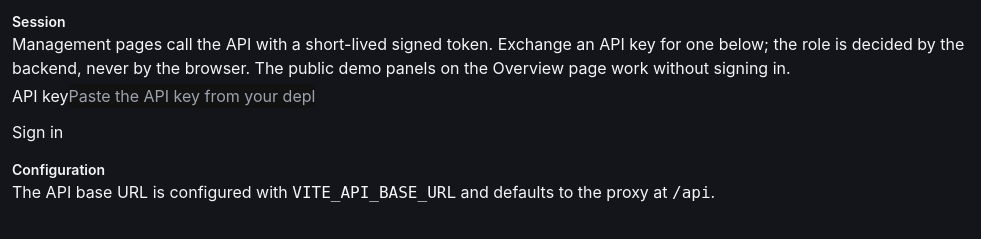
Test: SettingsPage › shows the backend error when the key is rejected
Type "wrong-key" into the password field labelled "API key" at [192, 96], box [68,84,316,108]
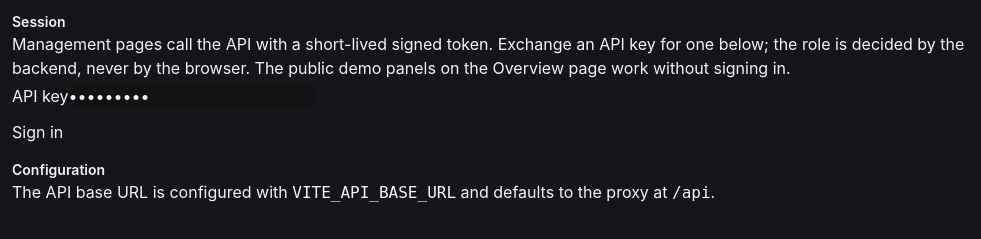
Click the button "Sign in" at [38, 132], box [12,120,63,144]
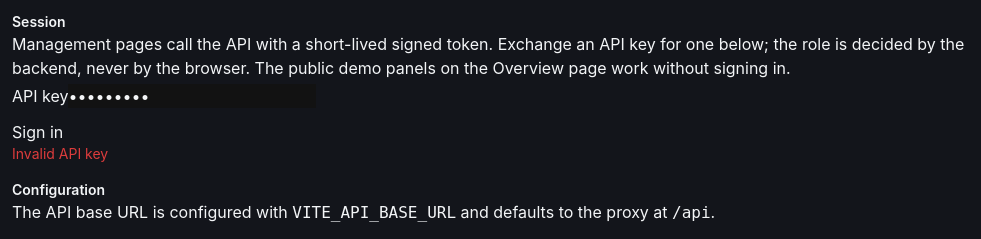
Check: the message reads "Invalid API key", box [12,145,108,162]
